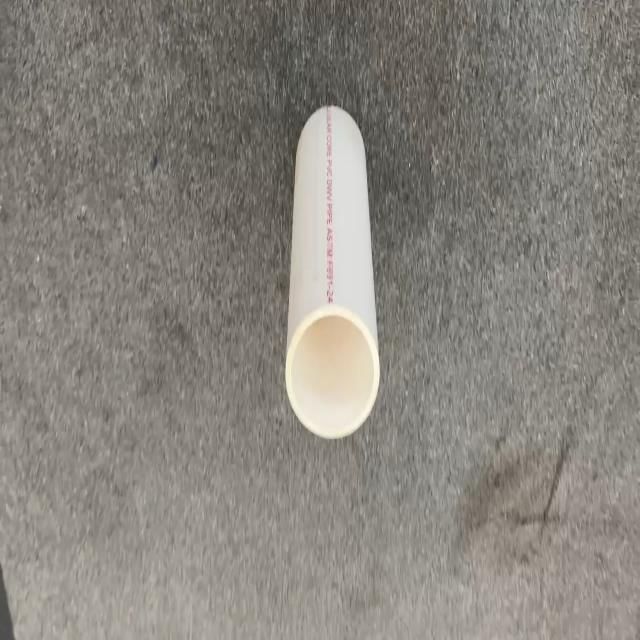coral: (284, 103, 380, 439)
